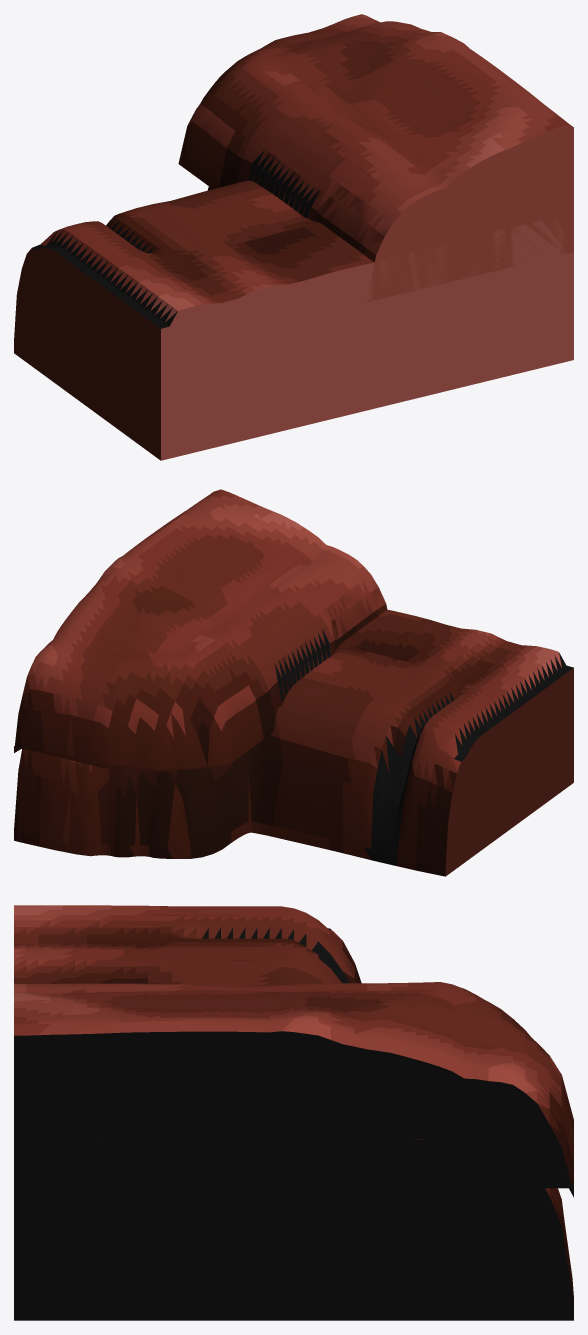
Rendered from savara_boss_157.glb.
3 renders of one model, top to bottom at view 1: azimuth 30°, elevation 25°; view 2: azimuth 150°, elevation 25°; view 3: azimuth 270°, elevation 25°, orthographic. The views are drawn at different scales.
Visible parts, largest first — view 1: savara_boss_157_hull; view 2: savara_boss_157_hull; view 3: savara_boss_157_hull.
Part boxes in pixels (box(x1,y1,x2,y2)): savara_boss_157_hull: box(14, 14, 573, 460); savara_boss_157_hull: box(14, 489, 573, 876); savara_boss_157_hull: box(14, 905, 573, 1320).
Bounding box in the file's own units: 24 × 13.43 × 23.
